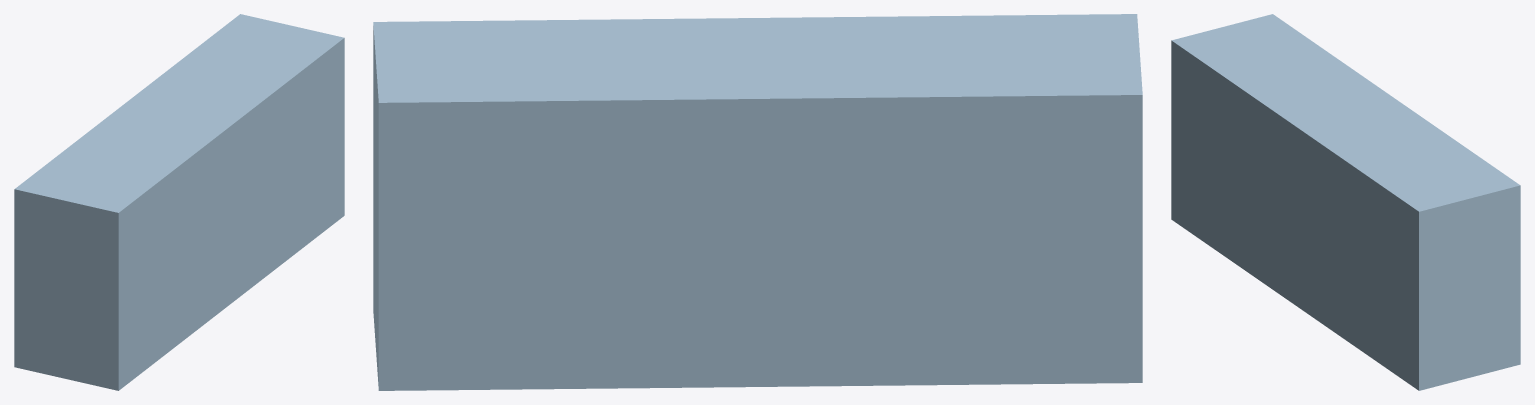
File: osm_way_225265332.glb
3 renders of one model, left to right at view 1: azimuth 30°, elevation 25°; view 2: azimuth 150°, elevation 25°; view 3: azimuth 270°, elevation 25°, orthographic. The views are drawn at different scales.
Parts seen in each view (by area): view 1: osm_way_225265332; view 2: osm_way_225265332; view 3: osm_way_225265332.
Part boxes in pixels (x1,y1,x2,y2): osm_way_225265332: (14,14,344,390); osm_way_225265332: (373,14,1142,390); osm_way_225265332: (1171,14,1520,390).
Bounding box in the file's own units: 45.47 × 19.2 × 33.91.
